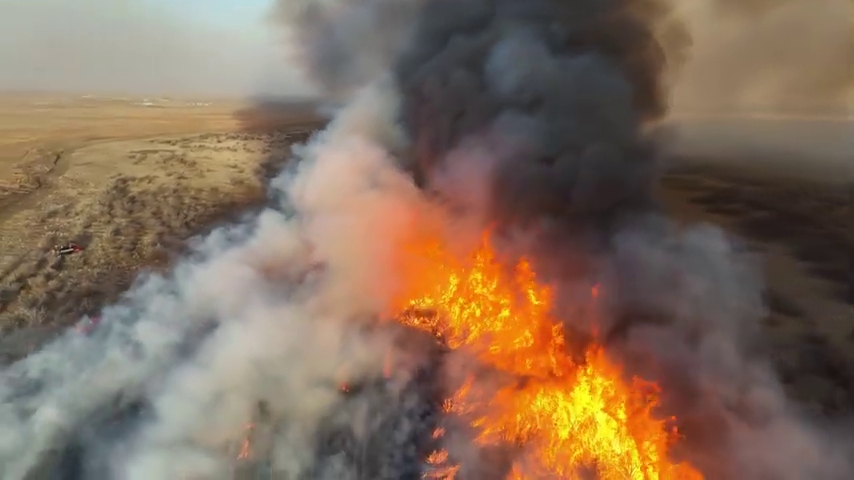forest_fire: (398, 235, 703, 479), (423, 424, 461, 478)
